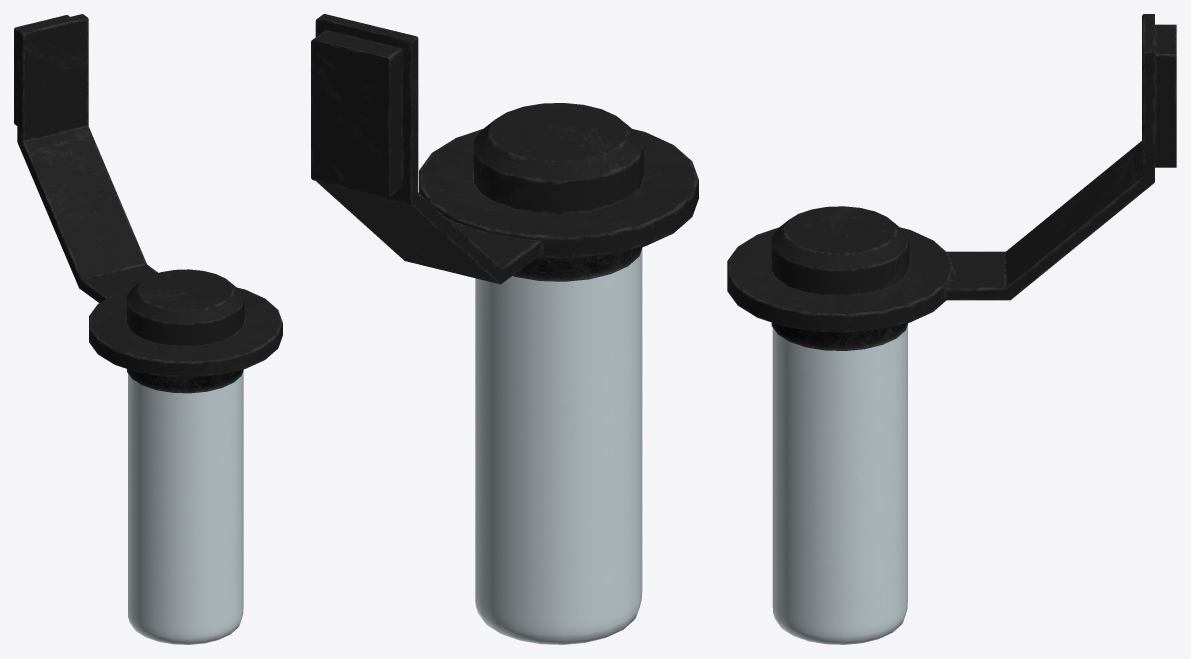
The model's file is outdoor_light_1.fbx.
The picture shows the model from 3 angles, left to right: view 1: azimuth 30°, elevation 25°; view 2: azimuth 150°, elevation 25°; view 3: azimuth 270°, elevation 25°; orthographic projection. The views are drawn at different scales.
Parts seen in each view (by area): view 1: Outdoor_lamp_1, Outdoor_lamp_1.001; view 2: Outdoor_lamp_1, Outdoor_lamp_1.001; view 3: Outdoor_lamp_1.001, Outdoor_lamp_1.
Part boxes in pixels (x1,y1,x2,y2): Outdoor_lamp_1: [14, 14, 282, 393]; Outdoor_lamp_1.001: [128, 371, 243, 644]; Outdoor_lamp_1: [311, 14, 698, 284]; Outdoor_lamp_1.001: [475, 249, 642, 644]; Outdoor_lamp_1.001: [772, 325, 907, 644]; Outdoor_lamp_1: [727, 14, 1176, 350].
Size of the model in its own units: 12.71 by 36.37 by 25.14.
